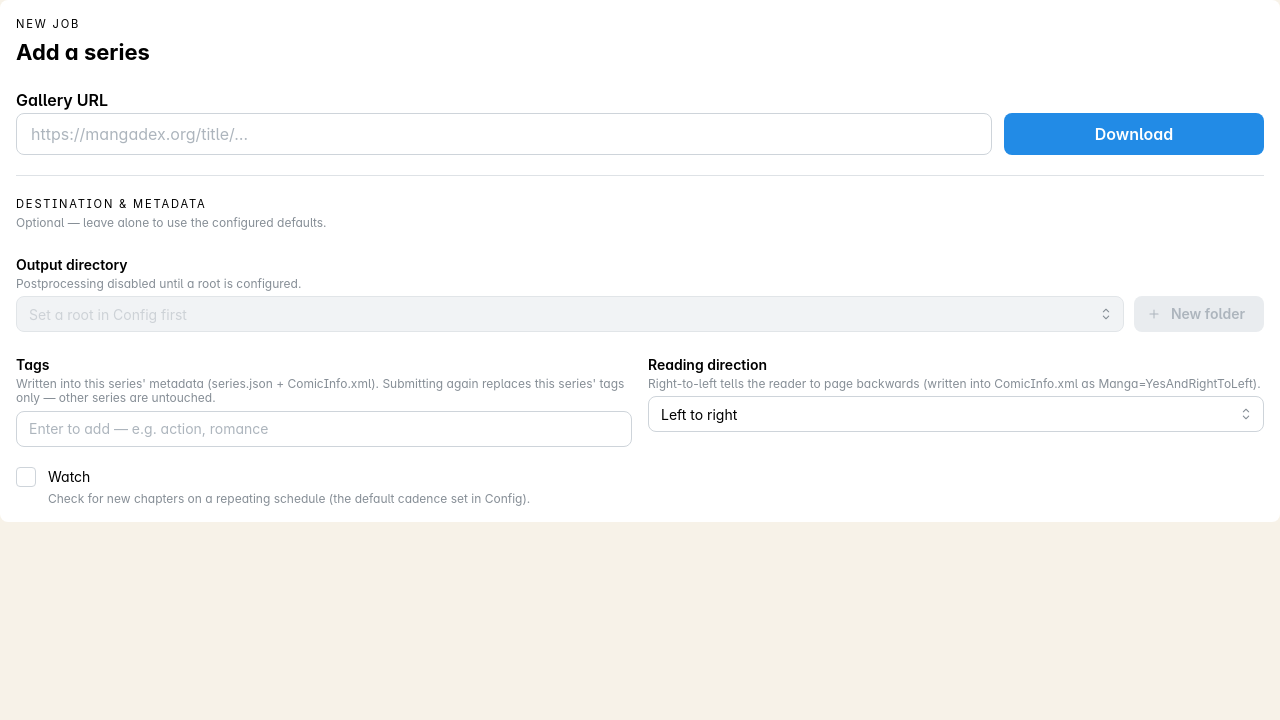
it: SubmitForm › shows a local error when submitting an empty URL
This screenshot has width=1280, height=720.
What coordinates should you click on to do the following:
click the button "Download"
I would click on:
 (1134, 134)
Its box is [1004,113,1264,155].
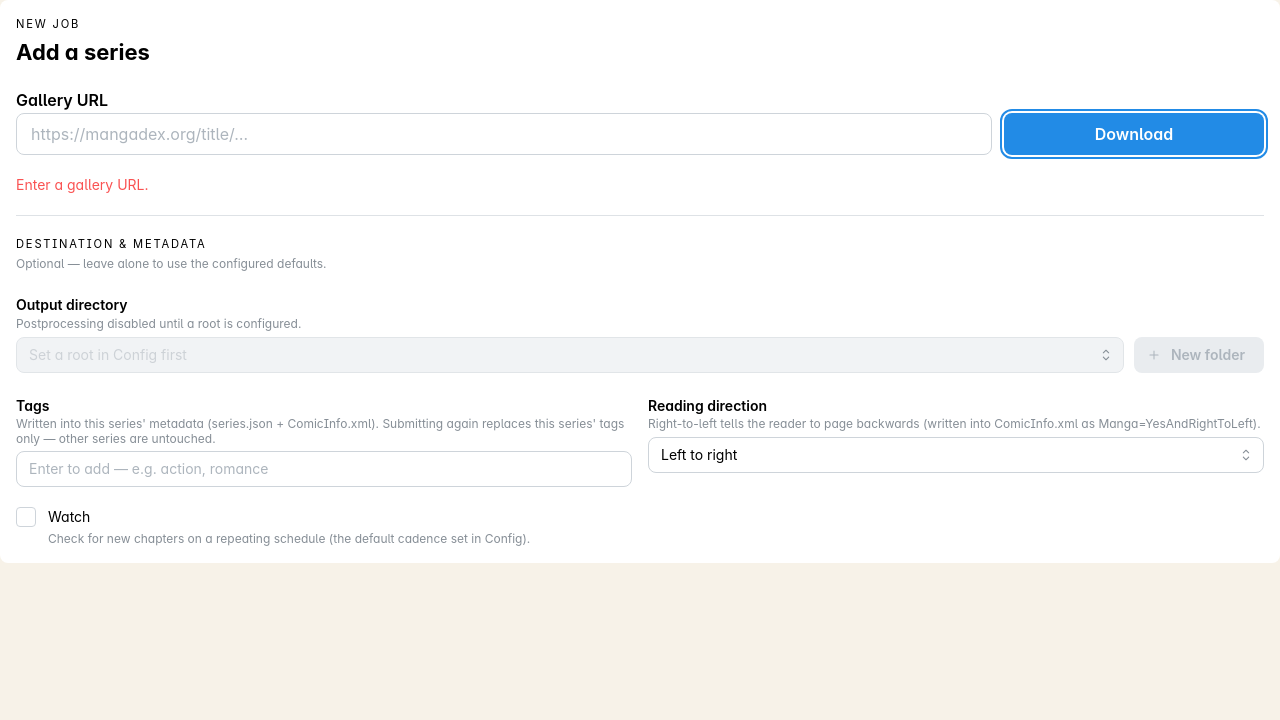
expect the text "Enter a gallery URL." is shown: met, box [16,176,148,193]
